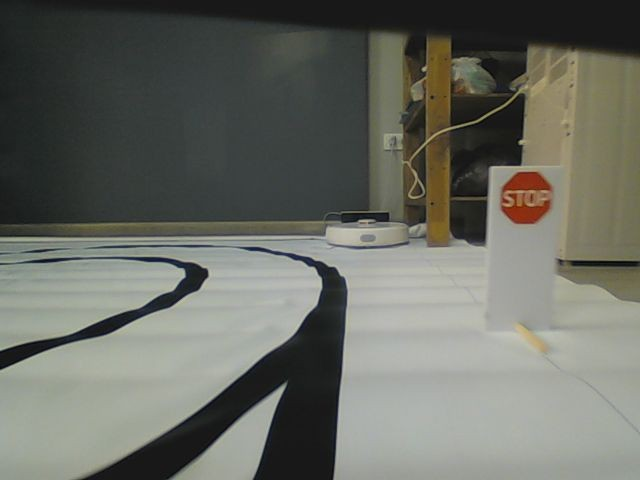Stop: (499, 169, 555, 226)
